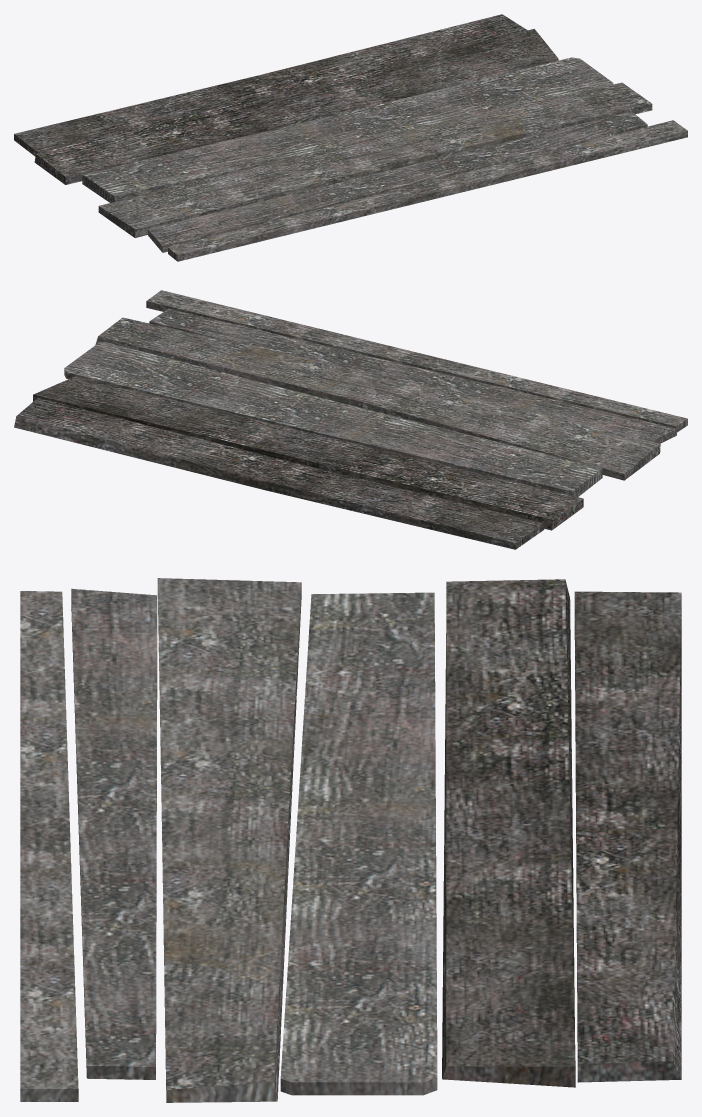
File: SM_short_boards_c.fbx
The picture shows the model from 3 angles, top to bottom: view 1: azimuth 30°, elevation 25°; view 2: azimuth 150°, elevation 25°; view 3: azimuth 270°, elevation 25°; orthographic projection. The views are drawn at different scales.
Parts seen in each view (by area): view 1: SM_short_boards_c; view 2: SM_short_boards_c; view 3: SM_short_boards_c.
Part boxes in pixels (<box>): SM_short_boards_c: <box>14,14,687,261</box>; SM_short_boards_c: <box>14,290,687,549</box>; SM_short_boards_c: <box>20,578,681,1102</box>.
Size of the model in its own units: 342 by 188 by 7.8.
Materials: 1 (1 with a texture image).
